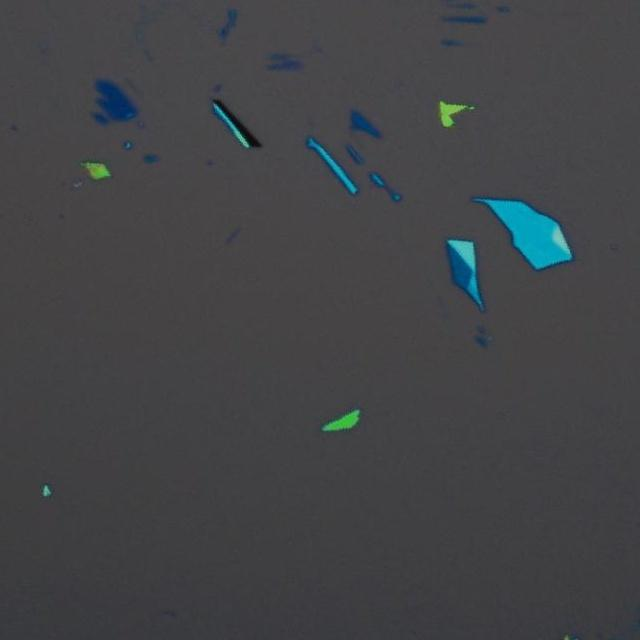monolayer-eWW4: (268, 52, 292, 61)
